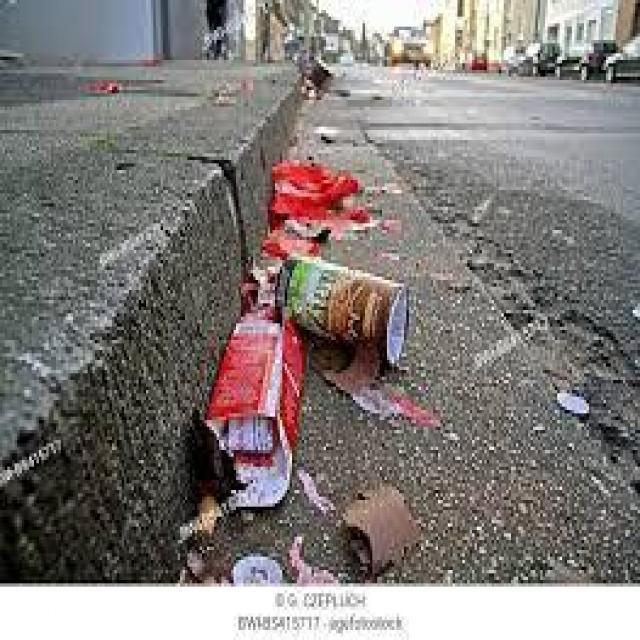curb: (4, 133, 255, 580), (128, 64, 303, 271)
